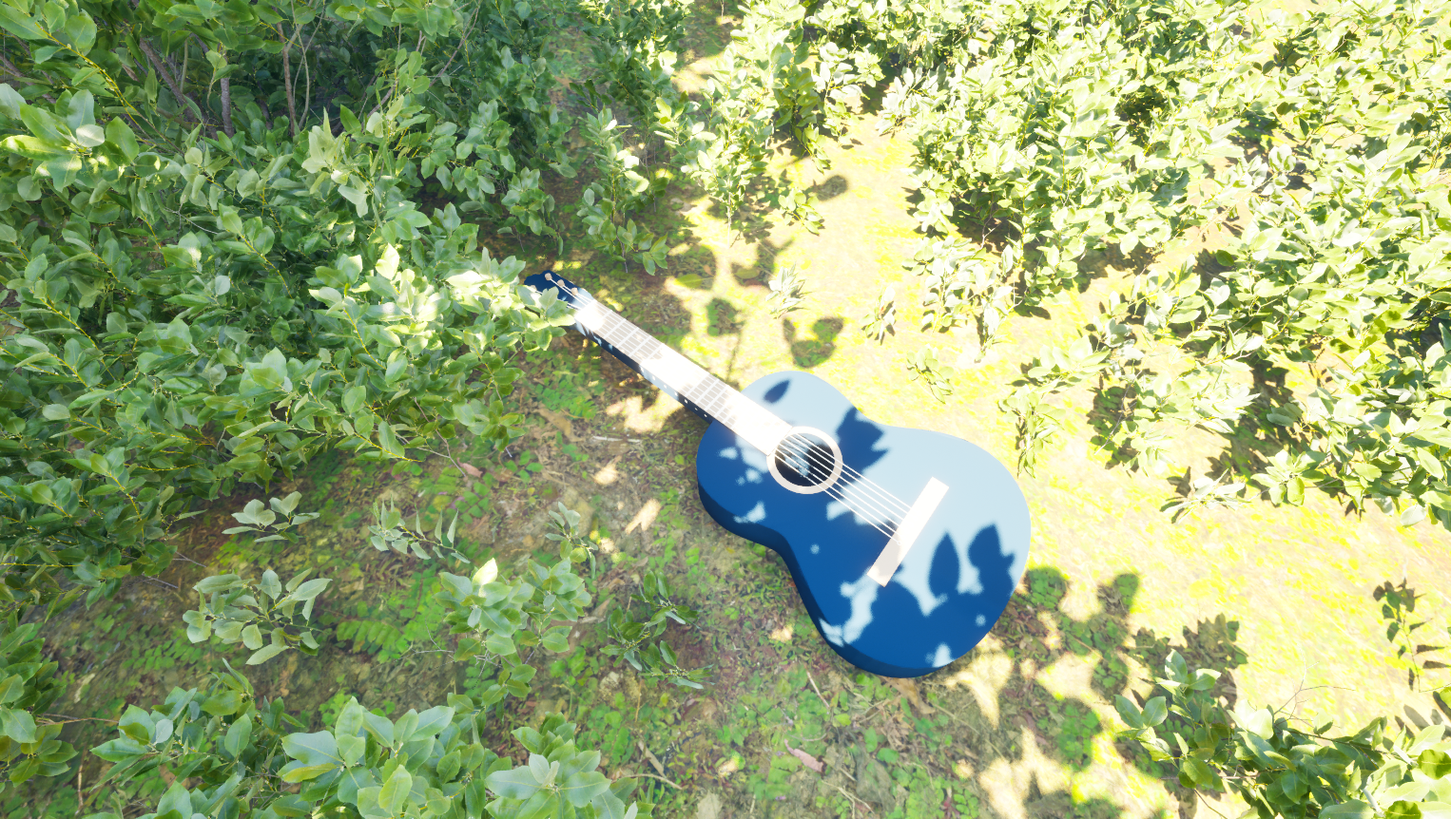Guitar: (440, 215, 1067, 725)
